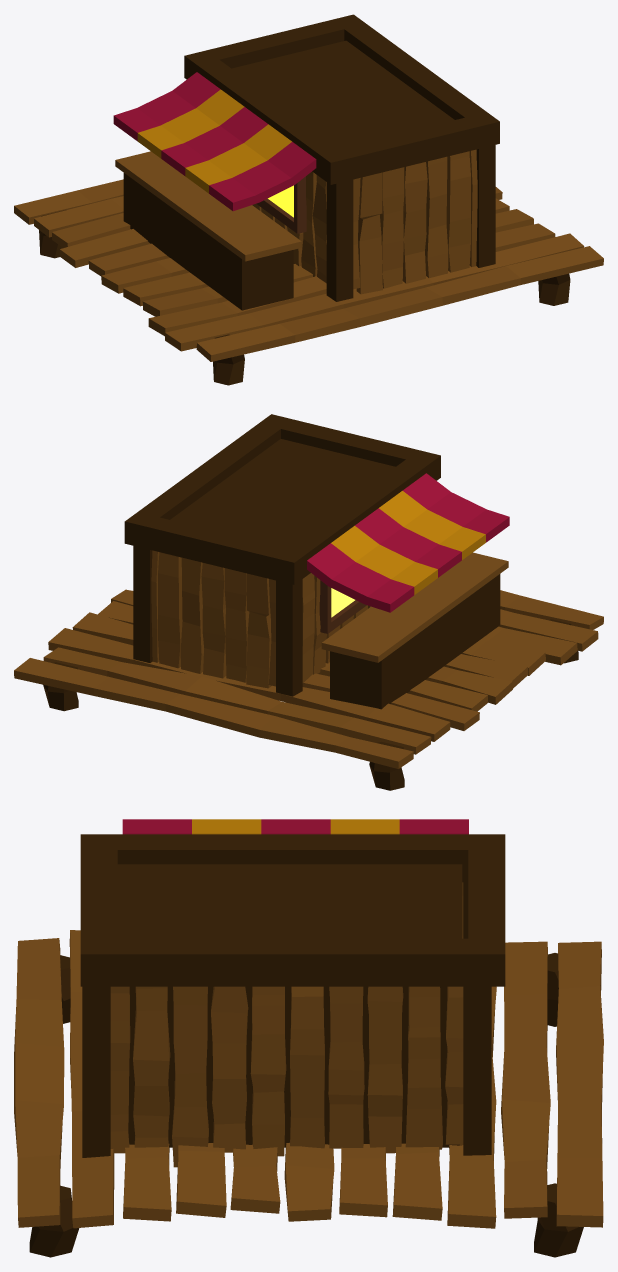
The model's file is Market3.fbx.
3 views of the same model, one above another, from view 1: azimuth 30°, elevation 25°; view 2: azimuth 150°, elevation 25°; view 3: azimuth 270°, elevation 25° (orthographic). The views are drawn at different scales.
Visible parts, largest first — view 1: Cube.349; view 2: Cube.349; view 3: Cube.349.
Boxes of the visible parts, <box> form: Cube.349: <box>14,14,603,385</box>; Cube.349: <box>14,414,603,790</box>; Cube.349: <box>14,819,603,1257</box>.
Size of the model in its own units: 3.87 by 1.65 by 3.36.
